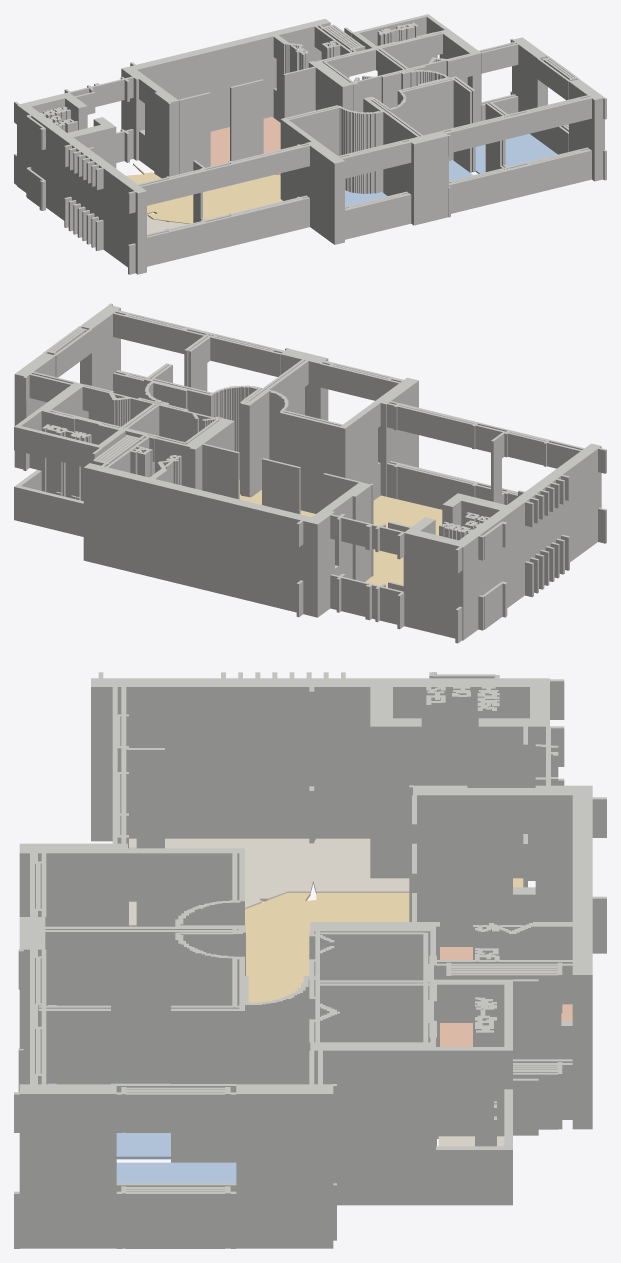
3 views of the same model, one above another, from view 1: azimuth 30°, elevation 25°; view 2: azimuth 150°, elevation 25°; view 3: azimuth 270°, elevation 25° (orthographic). The views are drawn at different scales.
Visible parts, largest first — view 1: walls, room:living:2, room:bedroom:4, room:kitchen:0, room:bedroom:5, room:other:3; view 2: walls, room:living:2; view 3: walls, room:living:2, room:other:3, room:bedroom:4, room:bedroom:6, room:kitchen:0.
Boxes of the visible parts, x1,y1,x2,y2 form: walls: (14, 14, 606, 274); room:living:2: (126, 163, 282, 223); room:bedroom:4: (475, 134, 557, 173); room:kitchen:0: (210, 117, 280, 175); room:bedroom:5: (345, 190, 387, 206); room:other:3: (147, 215, 188, 234); walls: (14, 303, 606, 643); room:living:2: (239, 480, 442, 587); walls: (14, 672, 606, 1248); room:living:2: (245, 878, 523, 1002); room:other:3: (129, 838, 409, 926); room:bedroom:4: (116, 1162, 236, 1183); room:bedroom:6: (48, 1083, 170, 1159); room:kitchen:0: (440, 947, 572, 1046).
Size of the model in its own units: 16.43 by 2.8 by 9.75.
